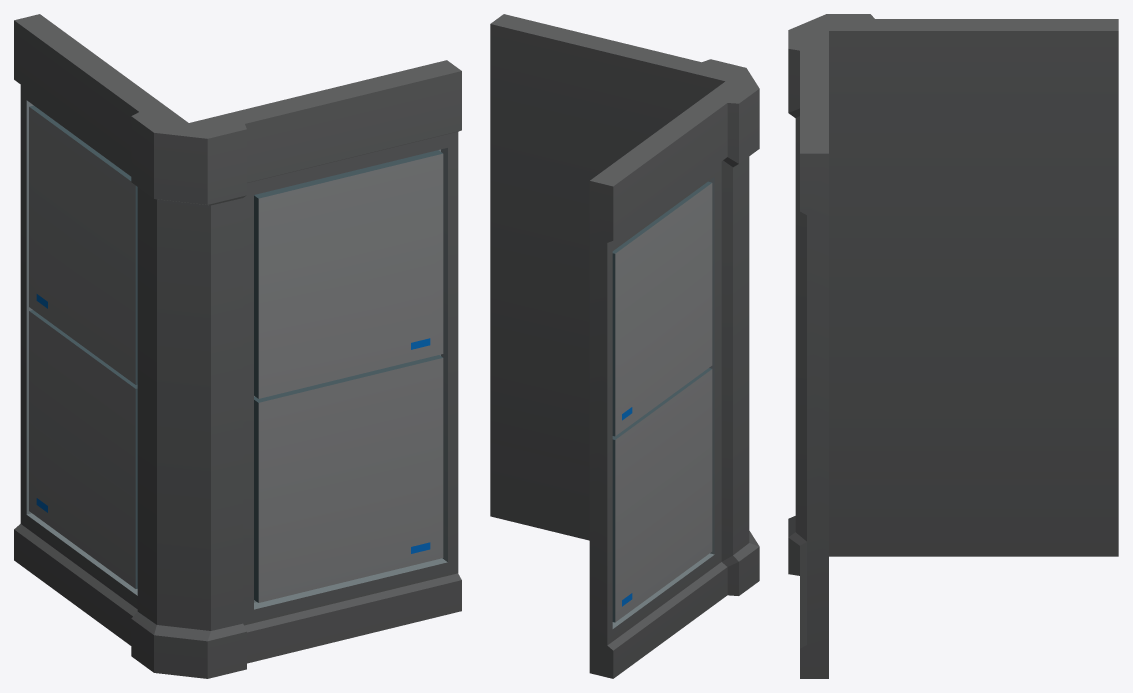
Rendered from Wall_type_B_013.fbx.
3 renders of one model, left to right at view 1: azimuth 30°, elevation 25°; view 2: azimuth 150°, elevation 25°; view 3: azimuth 270°, elevation 25°, orthographic. The views are drawn at different scales.
Parts seen in each view (by area): view 1: Wall_type_B_013; view 2: Wall_type_B_013; view 3: Wall_type_B_013.
Boxes of the visible parts, left/top/right/bottom form: Wall_type_B_013: left=14, top=14, right=461, bottom=678; Wall_type_B_013: left=490, top=14, right=759, bottom=678; Wall_type_B_013: left=788, top=14, right=1118, bottom=678.
Size of the model in its own units: 228 by 228 by 400.
